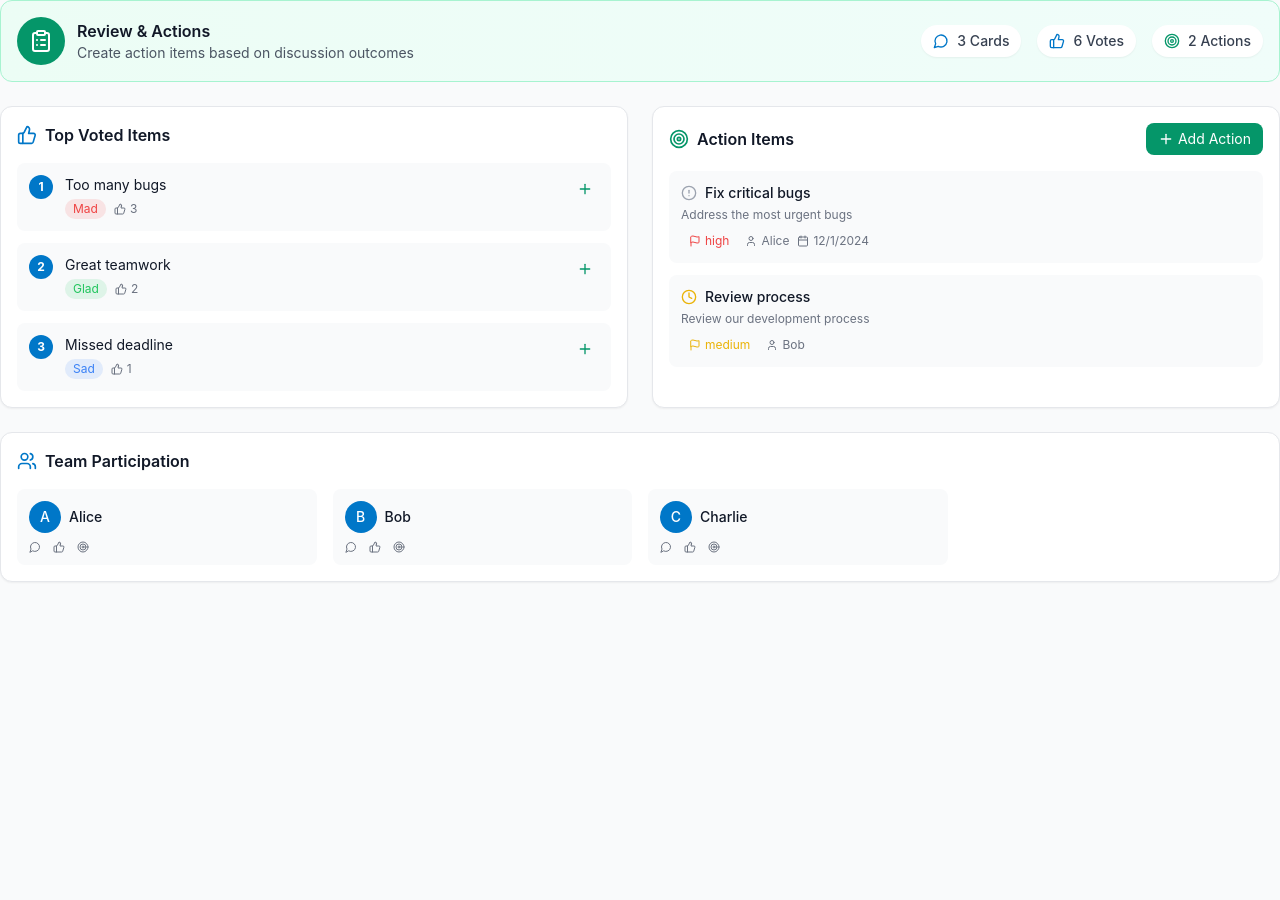
Test: ReviewStage › Top Voted Items › opens add action form when clicking add button on top voted item
The image size is (1280, 900).
Click the button titled "Create action from this item" in the row of "Too many bugs".
click(585, 189)  # box [571,175,599,203]
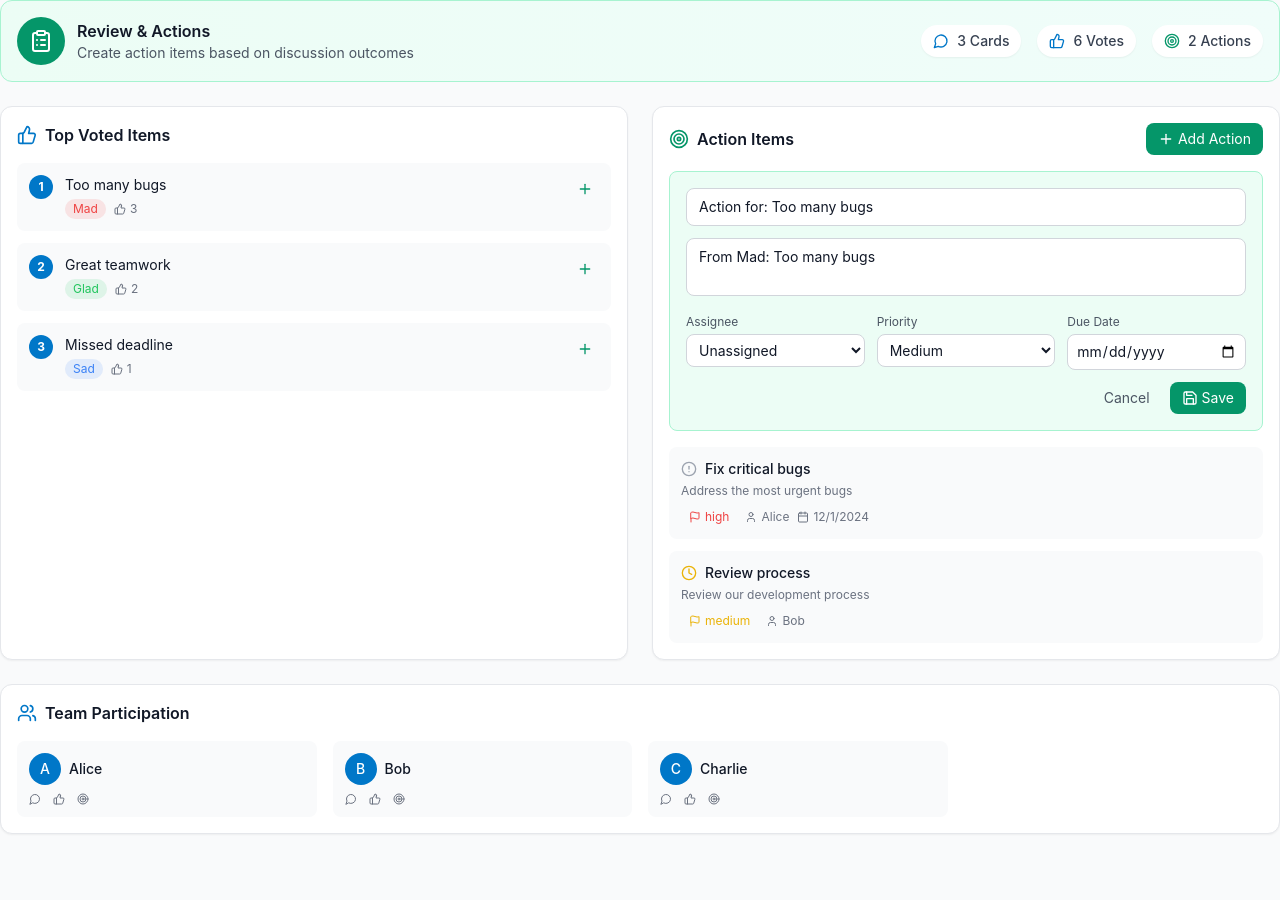
Expected: the field with placeholder "Action title..." is shown, [686,188,1246,226]
